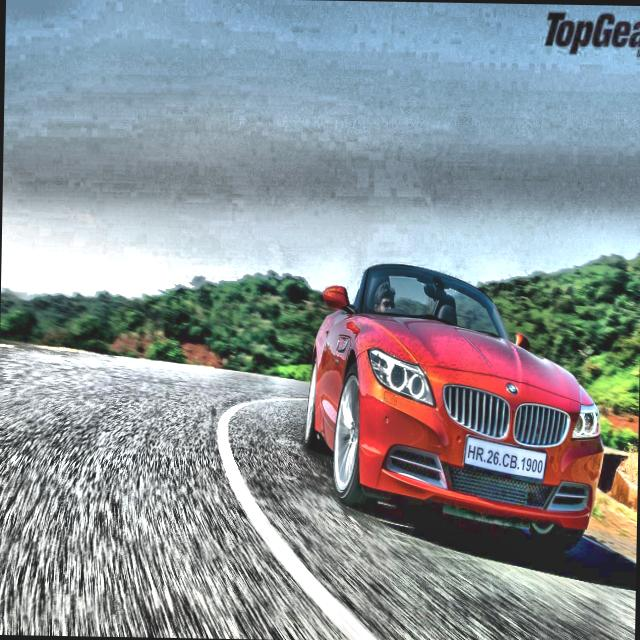Car: (304, 263, 606, 550)
